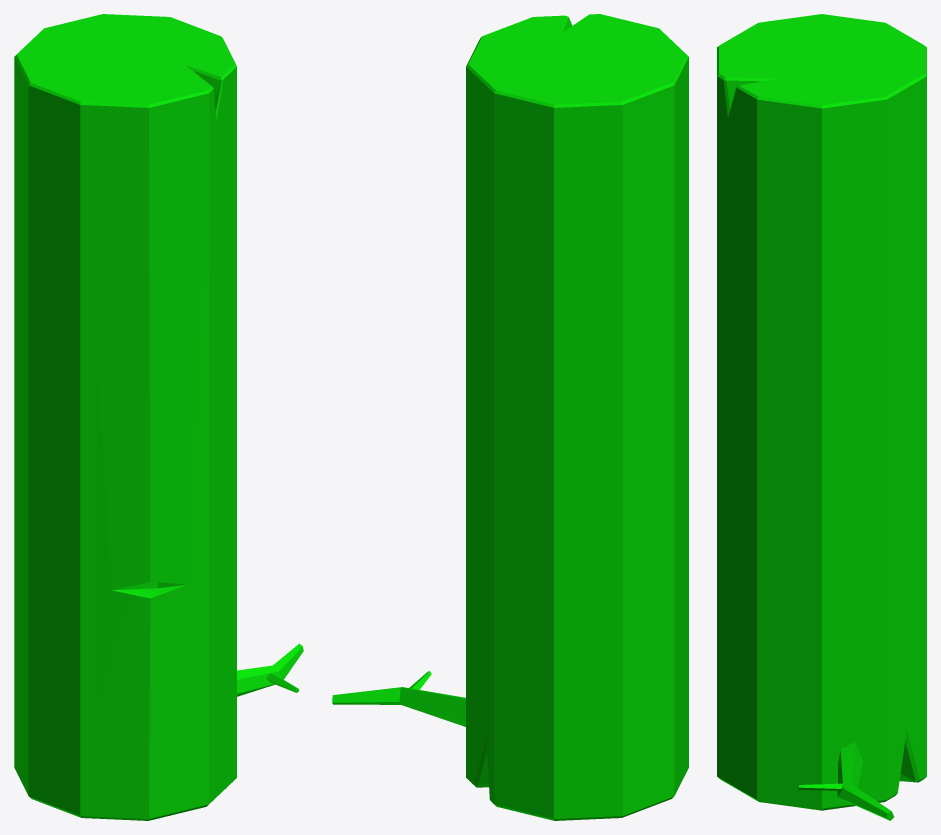
Rendered from log_2.fbx.
3 views of the same model, side by side, from view 1: azimuth 30°, elevation 25°; view 2: azimuth 150°, elevation 25°; view 3: azimuth 270°, elevation 25° (orthographic).
Parts seen in each view (by area): view 1: Log_2; view 2: Log_2; view 3: Log_2.
Boxes of the visible parts, x1,y1,x2,y2 form: Log_2: (14,14,303,820); Log_2: (332,14,688,820); Log_2: (717,14,926,820).
Size of the model in its own units: 4.13 by 9.19 by 2.48.
